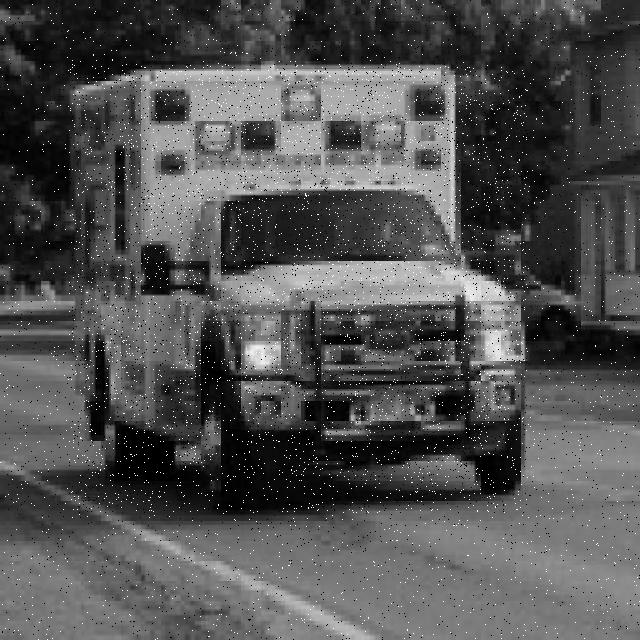Ambulance: (69, 64, 527, 513)
